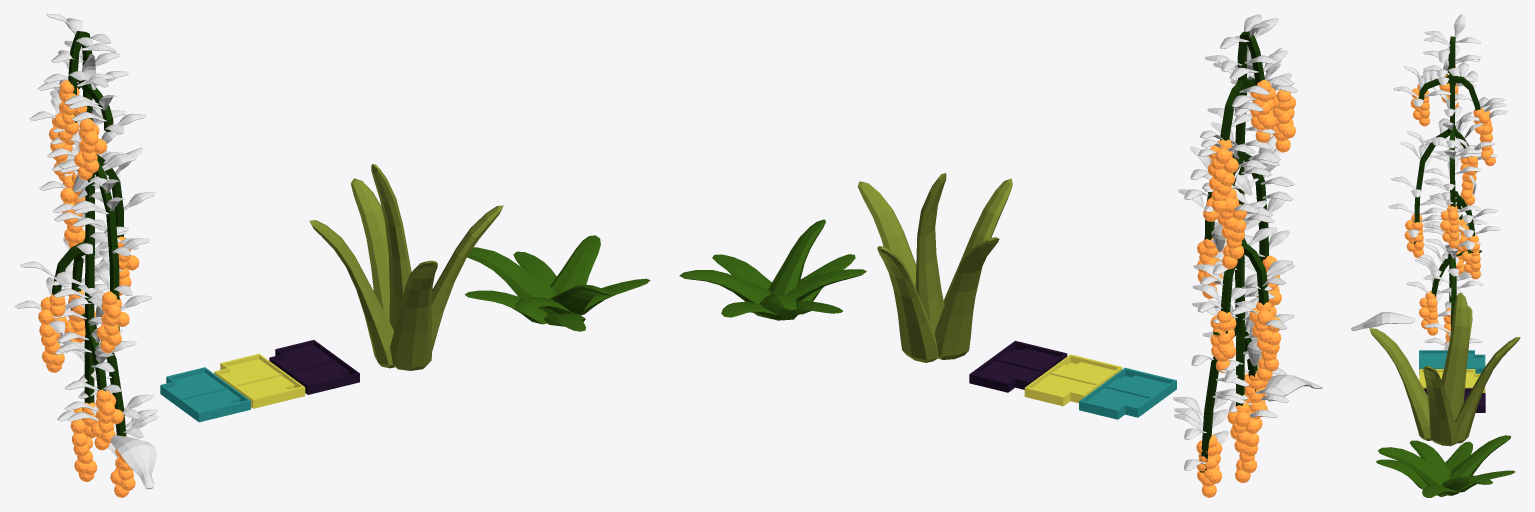
Rendered from KEYBOARD.fbx.
3 views of the same model, side by side, from view 1: azimuth 30°, elevation 25°; view 2: azimuth 150°, elevation 25°; view 3: azimuth 270°, elevation 25° (orthographic). The views are drawn at different scales.
Visible parts, largest first — view 1: Grass .009, Vert.002, Grass .002, keycards.001, keycards.002, keycards, Grass .005, Grass .004, Grass .003, Grass .001, Icosphere.001, Plane (+7 smaller); view 2: Grass .009, Vert.002, Grass .005, keycards.001, Grass .003, keycards.002, keycards, Grass .004, Grass .001, Icosphere.009, Icosphere.030, Icosphere.001 (+8 smaller); view 3: Grass .009, Vert.002, Grass .004, Grass .002, Grass .001, Grass .003, keycards.001, Icosphere.009, Icosphere.003, Icosphere.007, Icosphere.002, Plane (+6 smaller).
Boxes of the visible parts, x1,y1,x2,y2 form: Grass .009: (464,235,650,331); Vert.002: (52,31,126,436); Grass .002: (390,260,437,370); keycards.001: (160,367,250,422); keycards.002: (269,340,359,394); keycards: (214,353,305,408); Grass .005: (309,220,394,368); Grass .004: (371,164,411,330); Grass .003: (350,178,389,321); Grass .001: (431,205,503,349); Icosphere.001: (38,294,67,372); Plane: (110,435,156,489); Grass .009: (679,219,866,320); Vert.002: (1200,31,1268,472); Grass .005: (935,237,999,359); keycards.001: (1079,367,1176,419); Grass .003: (877,246,938,362); keycards.002: (969,340,1067,392); keycards: (1024,354,1122,406); Grass .004: (915,173,946,332); Grass .001: (857,181,916,294); Icosphere.009: (1203,139,1238,221); Icosphere.030: (1227,402,1260,482); Icosphere.001: (1249,301,1281,381); Grass .009: (1376,435,1515,497); Vert.002: (1414,36,1480,330); Grass .004: (1441,292,1469,421); Grass .002: (1369,328,1431,440); Grass .001: (1423,366,1458,446); Grass .003: (1455,337,1520,443); keycards.001: (1419,350,1485,374); Icosphere.009: (1473,108,1495,166); Icosphere.003: (1440,204,1459,248); Icosphere.007: (1419,291,1438,335); Icosphere.002: (1460,156,1477,205); Plane: (1351,312,1415,330).
Size of what is drawn, in the model's own units: 5011 by 3919 by 1695.
